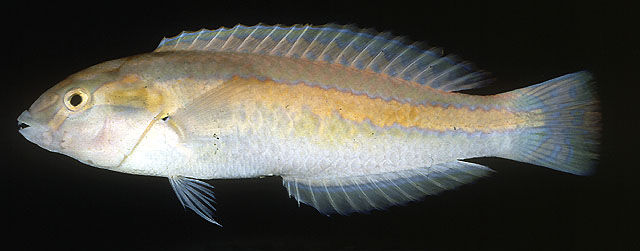fish: (17, 23, 602, 227)
